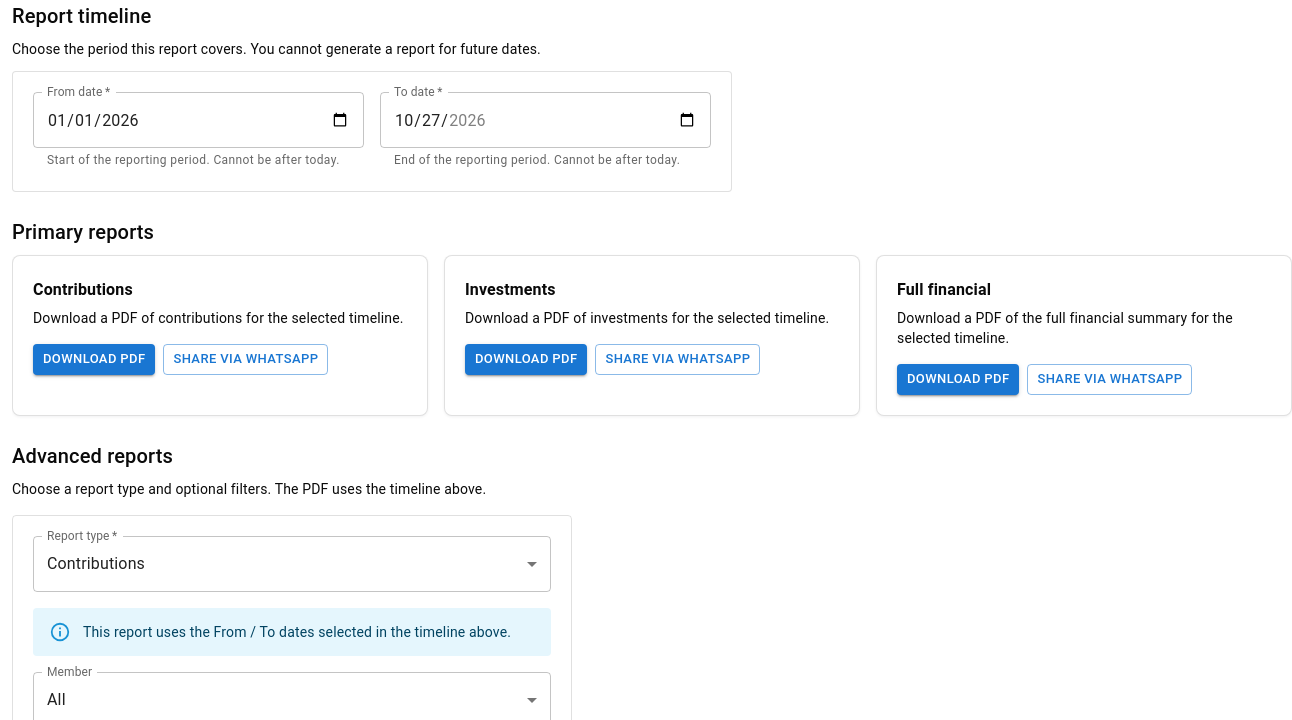
ReportsExportPanel filters › blocks export and share when the timeline is invalid, with an inline message
The width and height of the screenshot is (1292, 720).
Type "2025-06-30" into the date field labelled "From date *" at [198, 120], box x1=33 y1=92 x2=364 y2=148
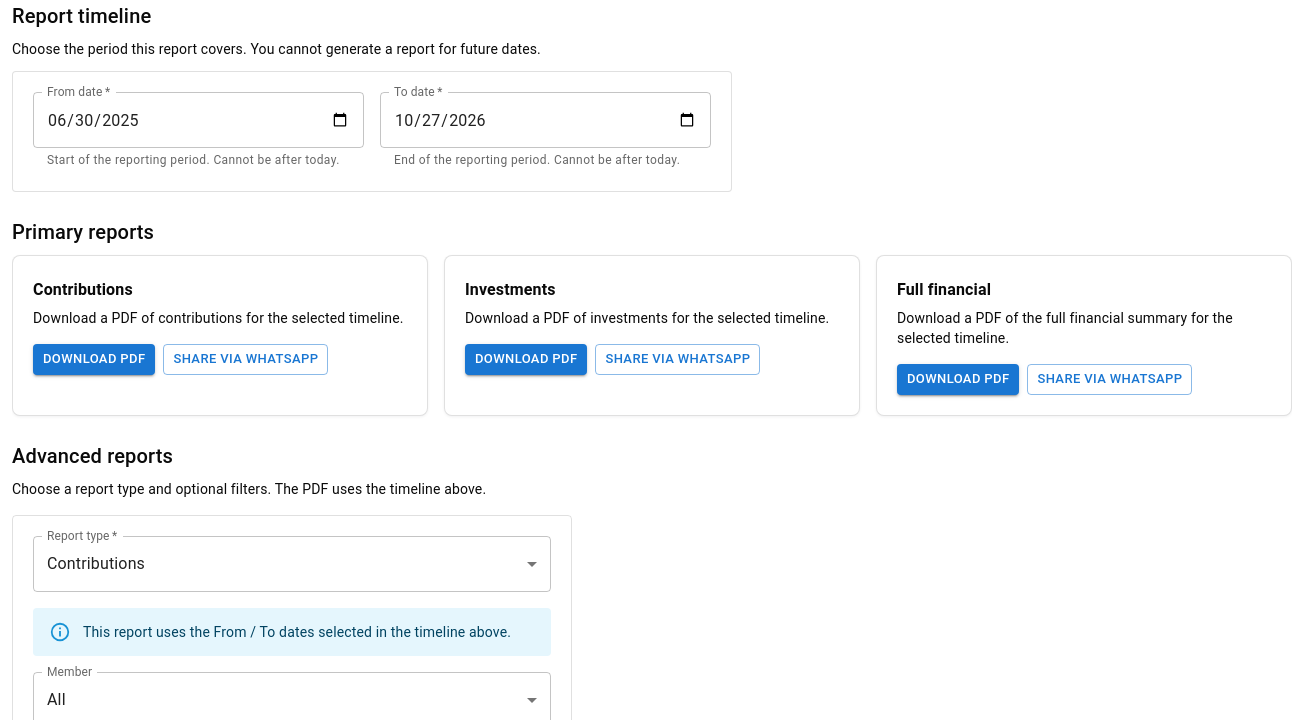
Type "2025-06-01" into the date field labelled "To date *" at [546, 120], box x1=380 y1=92 x2=711 y2=148
(page scrolled)
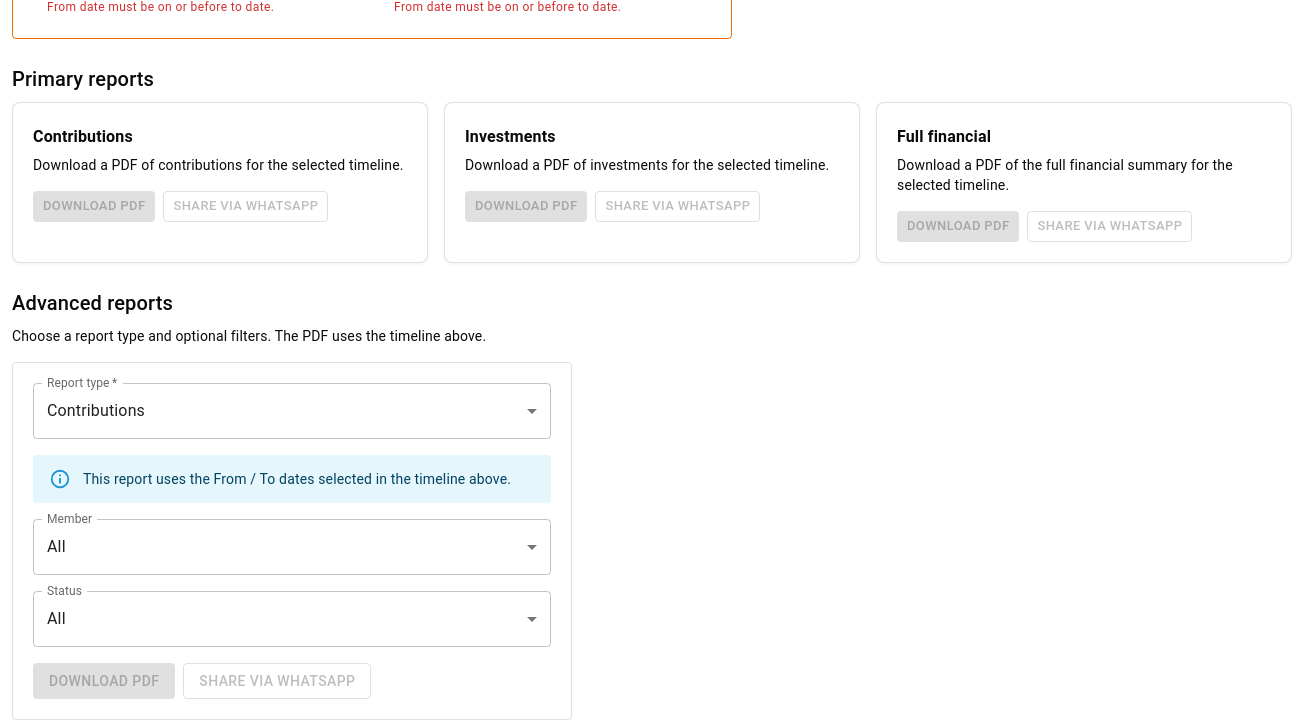
Expected: the 1st button "Download PDF" is disabled, x1=33 y1=191 x2=155 y2=222
Expected: the 2nd button "Download PDF" is disabled, x1=465 y1=191 x2=587 y2=222
Expected: the 3rd button "Download PDF" is disabled, x1=897 y1=211 x2=1019 y2=242
